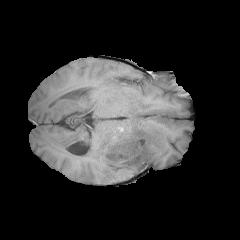glioma: (90, 120, 170, 184)
